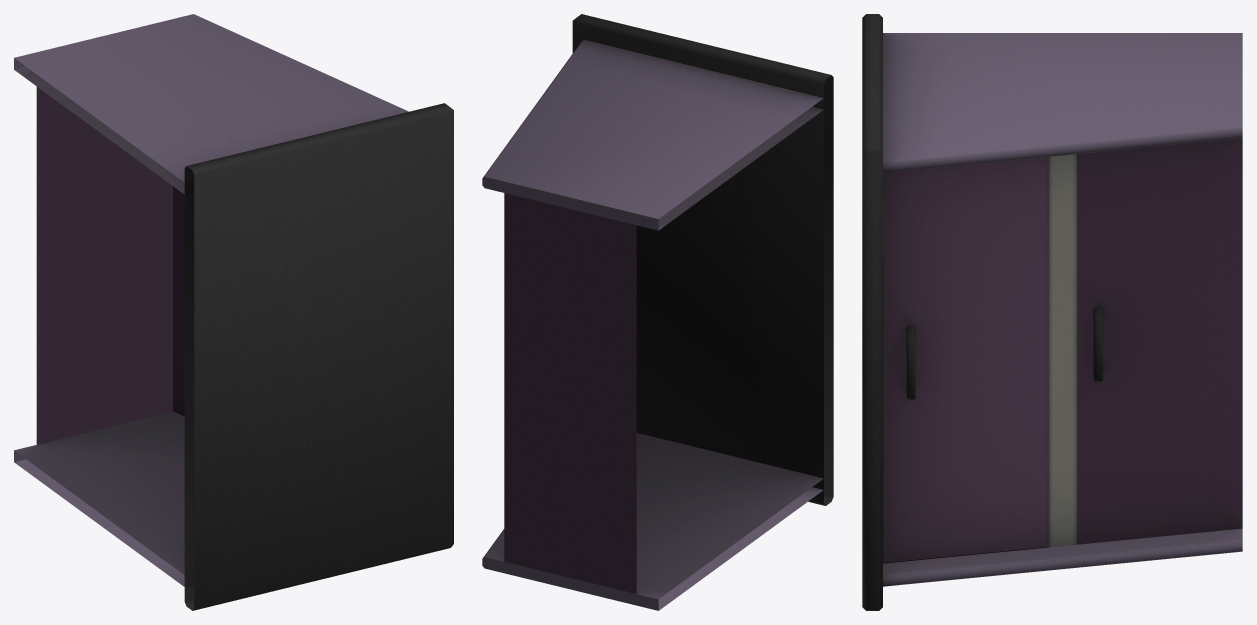
Rendered from nt_bedside_drawer_purple_LOD0.obj.
3 renders of one model, left to right at view 1: azimuth 30°, elevation 25°; view 2: azimuth 150°, elevation 25°; view 3: azimuth 270°, elevation 25°, orthographic. The views are drawn at different scales.
Visible parts, largest first — view 1: mtl_nt_bedside_drawer_purple; view 2: mtl_nt_bedside_drawer_purple; view 3: mtl_nt_bedside_drawer_purple.
Boxes of the visible parts, box(x1,y1,x2,y2) form: mtl_nt_bedside_drawer_purple: box(14, 14, 453, 610); mtl_nt_bedside_drawer_purple: box(482, 14, 833, 610); mtl_nt_bedside_drawer_purple: box(862, 14, 1242, 610).
Bounding box in the file's own units: 58.42 × 94.06 × 69.85.
